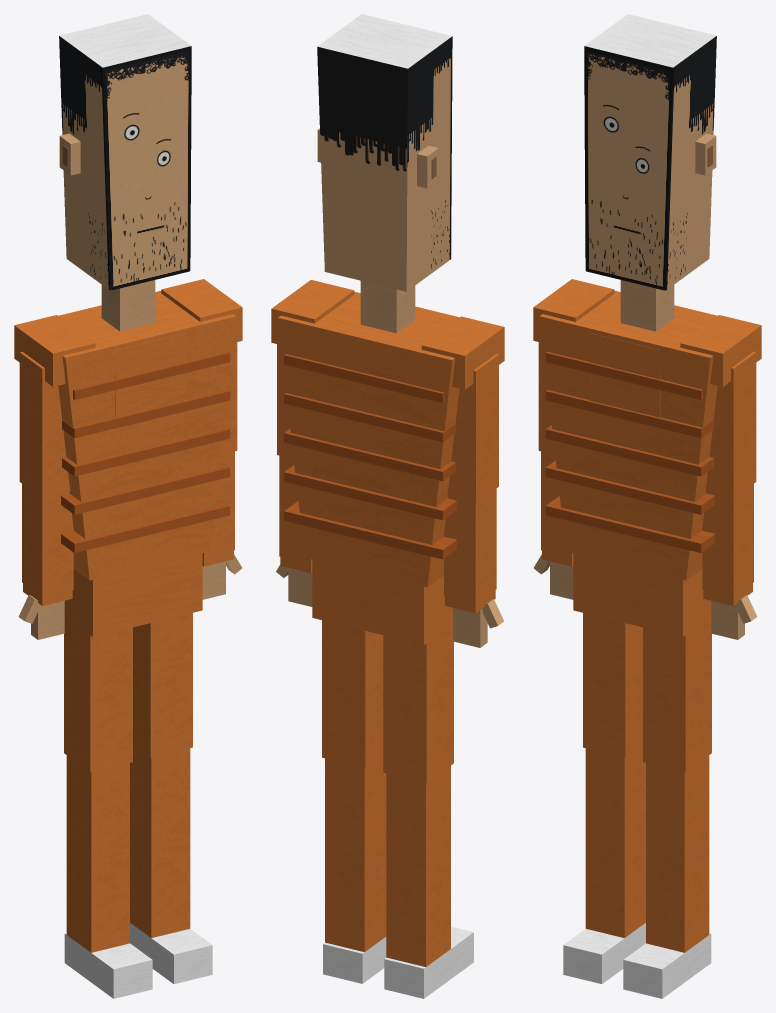
File: prisoner.glb
3 renders of one model, left to right at view 1: azimuth 30°, elevation 25°; view 2: azimuth 150°, elevation 25°; view 3: azimuth 330°, elevation 25°, orthographic. The views are drawn at different scales.
Parts seen in each view (by area): view 1: headMesh, jacket, torso, kneeR, kneeL, hipR, shoulderR, hipL, hips, elbowR, footR, shoulderL (+6 smaller); view 2: headMesh, jacket, kneeR, kneeL, torso, hipR, shoulderR, hipL, hips, elbowR, shoulderL, footR (+6 smaller); view 3: headMesh, jacket, torso, kneeL, kneeR, hipL, shoulderL, hipR, hips, elbowL, footL, shoulderR (+6 smaller).
Part boxes in pixels (x1=…): headMesh: x1=59, y1=14, x2=191, y2=290; jacket: x1=58, y1=291, x2=236, y2=580; torso: x1=61, y1=333, x2=230, y2=552; kneeR: x1=66, y1=755, x2=129, y2=952; kneeL: x1=130, y1=745, x2=190, y2=937; hipR: x1=64, y1=617, x2=132, y2=772; shoulderR: x1=14, y1=315, x2=95, y2=498; hipL: x1=133, y1=613, x2=192, y2=757; hips: x1=64, y1=553, x2=202, y2=636; elbowR: x1=22, y1=484, x2=73, y2=605; footR: x1=64, y1=933, x2=152, y2=998; shoulderL: x1=161, y1=279, x2=242, y2=454; headMesh: x1=317, y1=14, x2=452, y2=291; jacket: x1=278, y1=291, x2=459, y2=587; kneeR: x1=386, y1=766, x2=450, y2=966; kneeL: x1=325, y1=755, x2=386, y2=951; torso: x1=284, y1=354, x2=456, y2=559; hipR: x1=383, y1=624, x2=453, y2=783; shoulderR: x1=421, y1=316, x2=504, y2=503; hipL: x1=322, y1=620, x2=383, y2=768; hips: x1=312, y1=559, x2=452, y2=644; elbowR: x1=444, y1=488, x2=496, y2=613; shoulderL: x1=271, y1=280, x2=354, y2=458; footR: x1=384, y1=926, x2=473, y2=998; headMesh: x1=584, y1=14, x2=716, y2=290; jacket: x1=539, y1=291, x2=717, y2=580; torso: x1=545, y1=333, x2=714, y2=552; kneeL: x1=646, y1=755, x2=709, y2=952; kneeR: x1=585, y1=745, x2=645, y2=937; hipL: x1=643, y1=617, x2=711, y2=772; shoulderL: x1=680, y1=315, x2=761, y2=498; hipR: x1=583, y1=613, x2=642, y2=757; hips: x1=573, y1=553, x2=711, y2=636; elbowL: x1=702, y1=484, x2=753, y2=605; footL: x1=623, y1=933, x2=711, y2=998; shoulderR: x1=533, y1=279, x2=614, y2=454.
Size of the model in its own units: 0.6155 by 2.48 by 0.292.
Materials: 14 (14 with a texture image).
